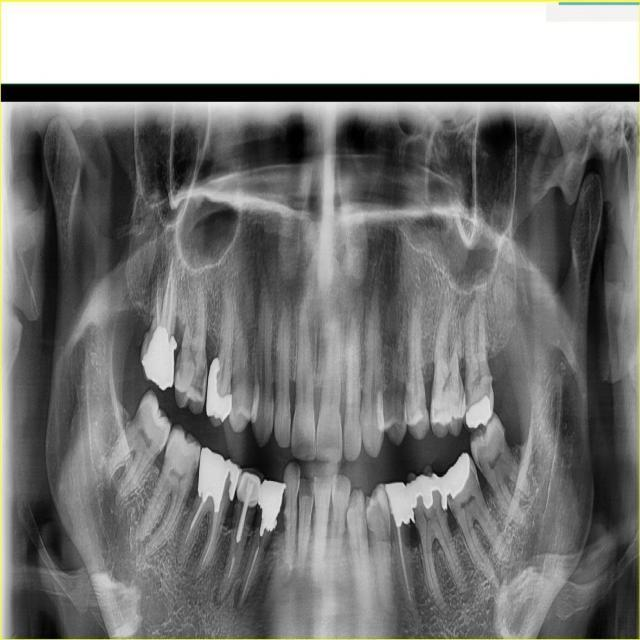71: (233, 479, 256, 545), (258, 517, 266, 538)
74: (239, 547, 260, 601), (397, 526, 411, 603), (202, 511, 220, 565), (160, 255, 173, 326), (184, 500, 205, 542), (165, 265, 176, 336), (154, 274, 160, 327), (228, 554, 236, 578)
NucleOSS Implant: (188, 446, 246, 517), (139, 325, 178, 391), (436, 449, 483, 501), (402, 473, 449, 522), (204, 356, 237, 422), (250, 477, 287, 532), (383, 479, 414, 529), (460, 394, 498, 432)
Sterngold Implant: (190, 356, 211, 398), (172, 345, 187, 385), (186, 457, 199, 483), (417, 393, 430, 417), (253, 504, 263, 529), (464, 382, 473, 409), (402, 522, 411, 549)
Zimmer Implant: (234, 467, 263, 510)
